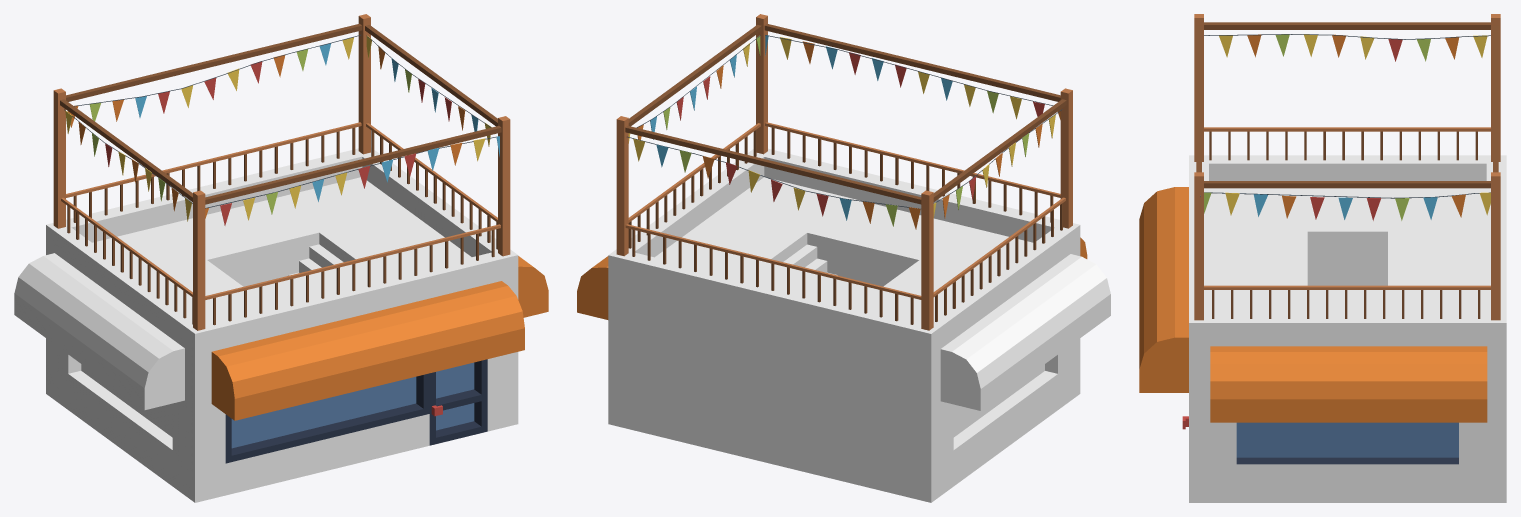
The model's file is commercial_house_08.fbx.
3 renders of one model, left to right at view 1: azimuth 30°, elevation 25°; view 2: azimuth 150°, elevation 25°; view 3: azimuth 270°, elevation 25°, orthographic. The views are drawn at different scales.
Visible parts, largest first — view 1: commercial_house_08; view 2: commercial_house_08; view 3: commercial_house_08.
Part boxes in pixels (x1,y1,x2,y2): commercial_house_08: [14, 14, 548, 502]; commercial_house_08: [577, 14, 1110, 502]; commercial_house_08: [1139, 14, 1506, 502].
Size of the model in its own units: 1250 by 900 by 925.
Materials: 1 (1 with a texture image).
